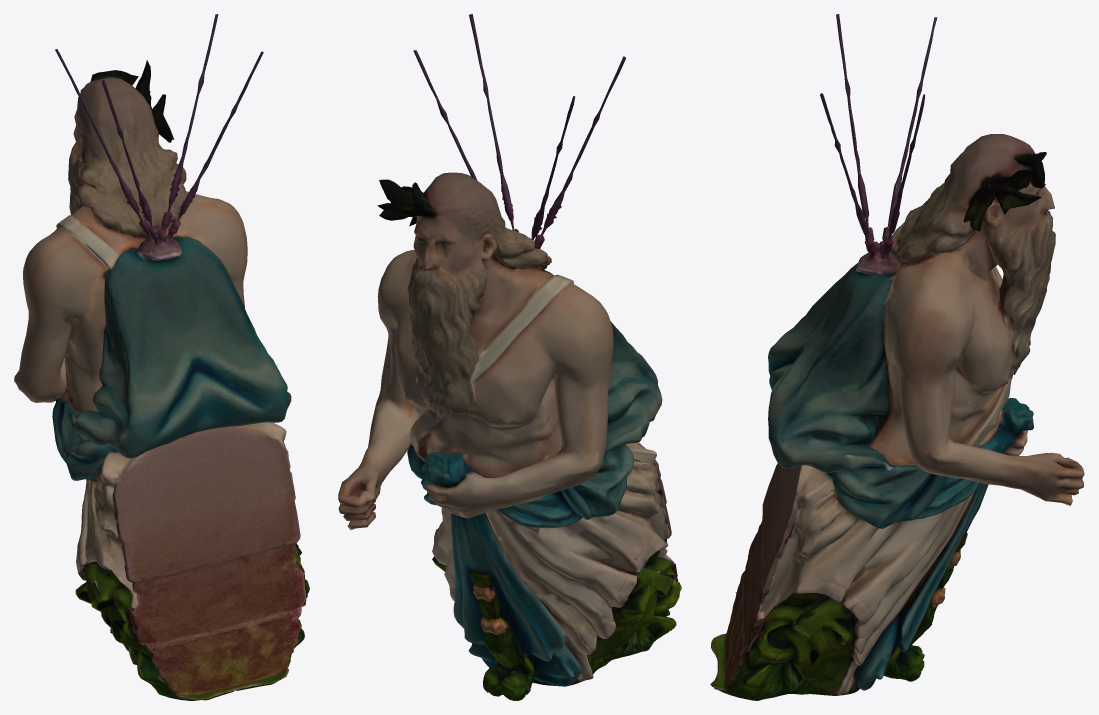
The model's file is Tamar_raw.glb.
The picture shows the model from 3 angles, left to right: view 1: azimuth 30°, elevation 25°; view 2: azimuth 150°, elevation 25°; view 3: azimuth 270°, elevation 25°; orthographic projection. The views are drawn at different scales.
Parts seen in each view (by area): view 1: tripo_node_e68a7e96-ca69-4b19-8be3-f0a5b0f2806e; view 2: tripo_node_e68a7e96-ca69-4b19-8be3-f0a5b0f2806e; view 3: tripo_node_e68a7e96-ca69-4b19-8be3-f0a5b0f2806e.
Part boxes in pixels (box(x1,y1,x2,y2)): tripo_node_e68a7e96-ca69-4b19-8be3-f0a5b0f2806e: box(14, 14, 309, 700); tripo_node_e68a7e96-ca69-4b19-8be3-f0a5b0f2806e: box(338, 14, 681, 700); tripo_node_e68a7e96-ca69-4b19-8be3-f0a5b0f2806e: box(710, 14, 1084, 700).
Size of the model in its own units: 0.373 by 0.9796 by 0.532.
Materials: 1 (1 with a texture image).
